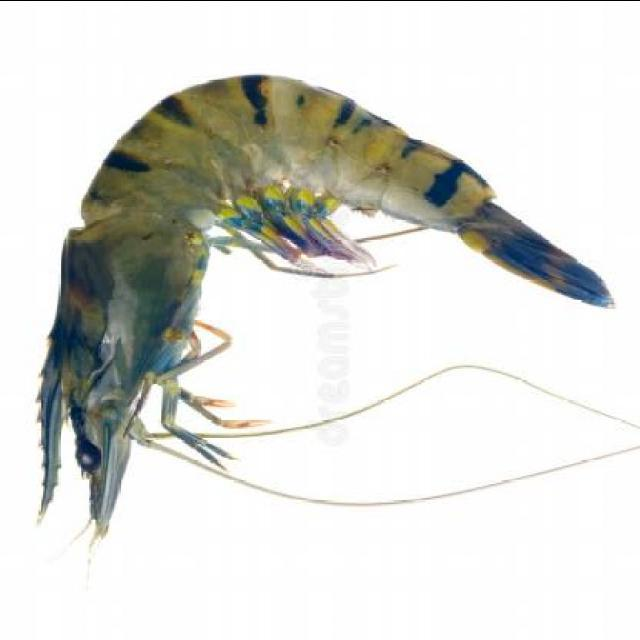shrimp: (18, 58, 627, 555)
